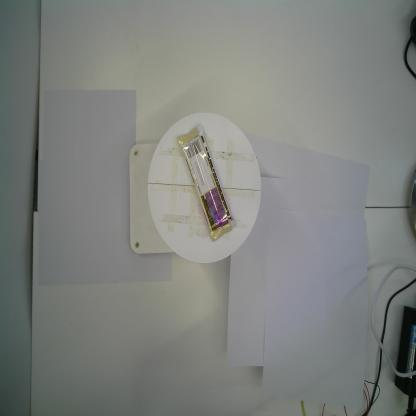Chocolate: (175, 122, 236, 244)
